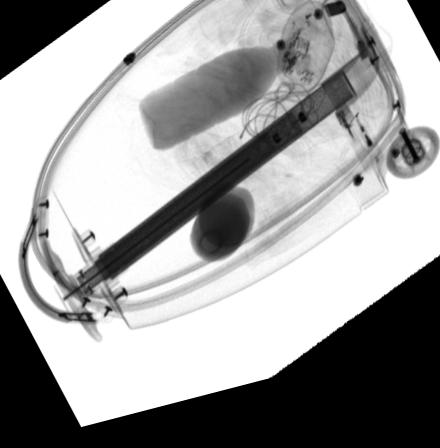Lighter: (334, 116, 385, 191)
